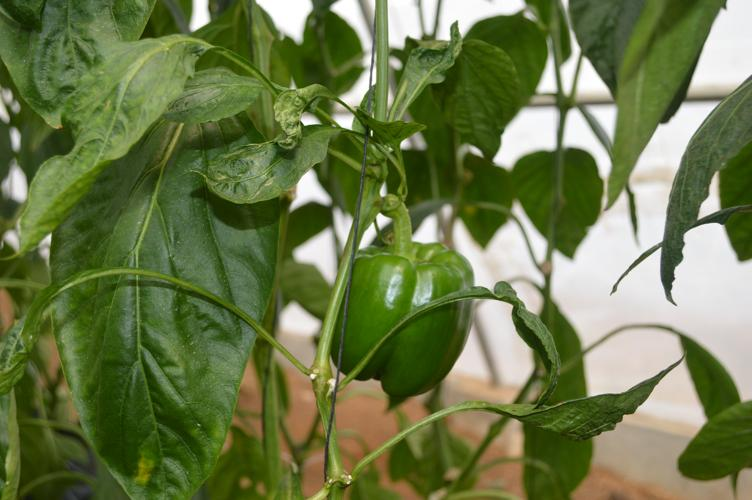BellPepper: (333, 241, 475, 397)
